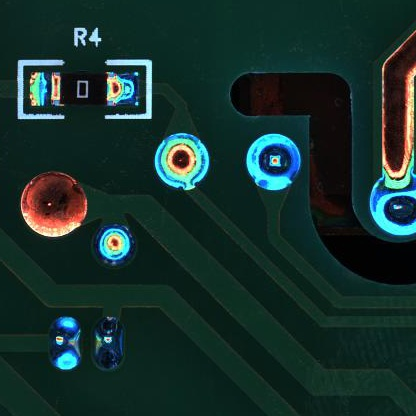spot: (153, 131, 209, 190), (247, 133, 303, 189), (367, 175, 416, 239), (91, 316, 128, 373), (47, 315, 81, 372), (94, 226, 135, 267)
